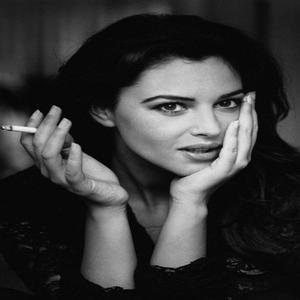cigarette: (2, 123, 41, 134)
